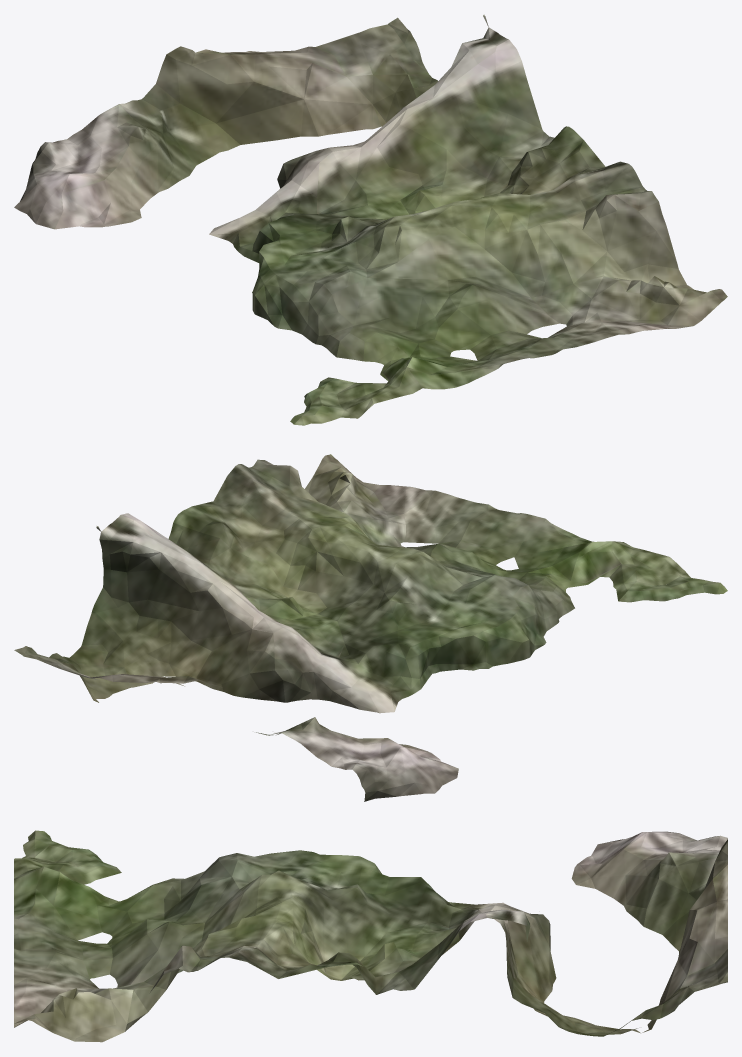
The picture shows the model from 3 angles, top to bottom: view 1: azimuth 30°, elevation 25°; view 2: azimuth 150°, elevation 25°; view 3: azimuth 270°, elevation 25°; orthographic projection. The views are drawn at different scales.
Bounding box in the file's own units: 4.37 × 1.34 × 5.9.
Materials: 2 (2 with a texture image).
